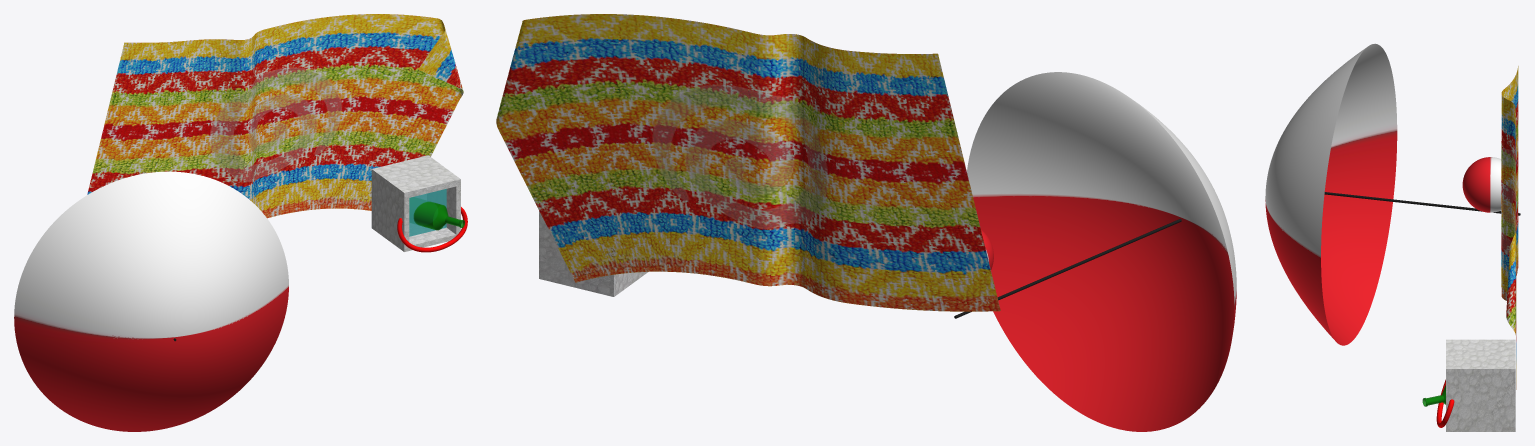
File: umbrellaprop.fbx
The picture shows the model from 3 angles, left to right: view 1: azimuth 30°, elevation 25°; view 2: azimuth 150°, elevation 25°; view 3: azimuth 270°, elevation 25°; orthographic projection. The views are drawn at different scales.
Parts seen in each view (by area): view 1: Object_1, Object_8, Object_6, Object_4, Object_3, Object_5; view 2: Object_8, Object_1, Object_6, Object_2; view 3: Object_1, Object_6, Object_8, Object_7, Object_2, Object_5.
Part boxes in pixels (x1,y1,x2,y2): Object_1: (14, 171, 288, 431); Object_8: (87, 14, 463, 218); Object_6: (371, 155, 460, 251); Object_4: (413, 201, 464, 230); Object_3: (409, 189, 446, 236); Object_5: (397, 207, 467, 252); Object_8: (496, 14, 1000, 311); Object_1: (967, 72, 1236, 431); Object_6: (539, 211, 647, 296); Object_2: (954, 218, 1181, 318); Object_1: (1265, 43, 1397, 345); Object_6: (1446, 339, 1515, 431); Object_8: (1501, 66, 1518, 389); Object_7: (1462, 157, 1501, 212); Object_2: (1324, 192, 1520, 215); Object_5: (1436, 379, 1454, 427).
Bounding box in the file's own units: 11.11 × 6.8 × 4.58.
